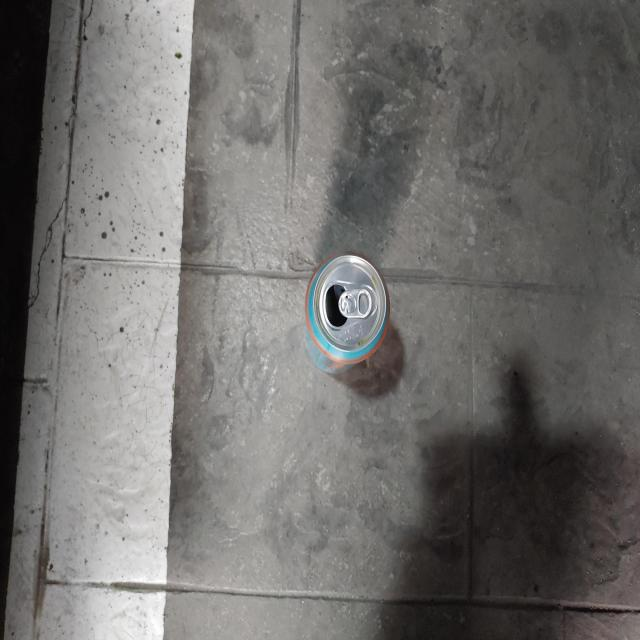can: (305, 252, 390, 374)
